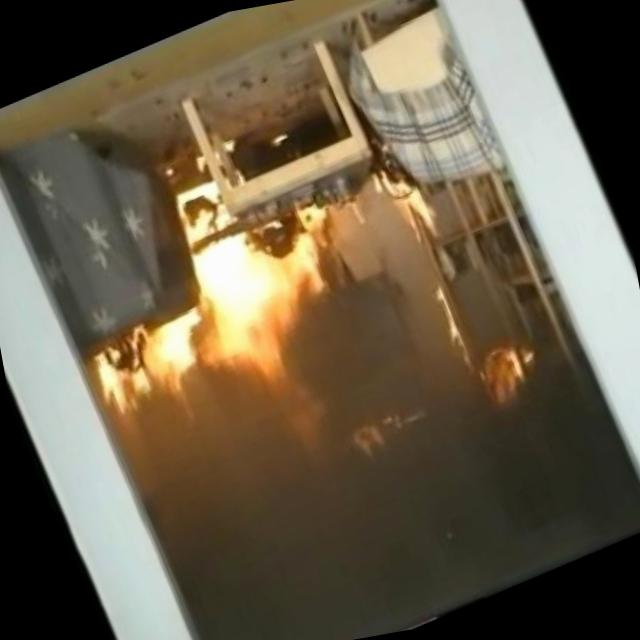fire: (18, 124, 392, 473)
